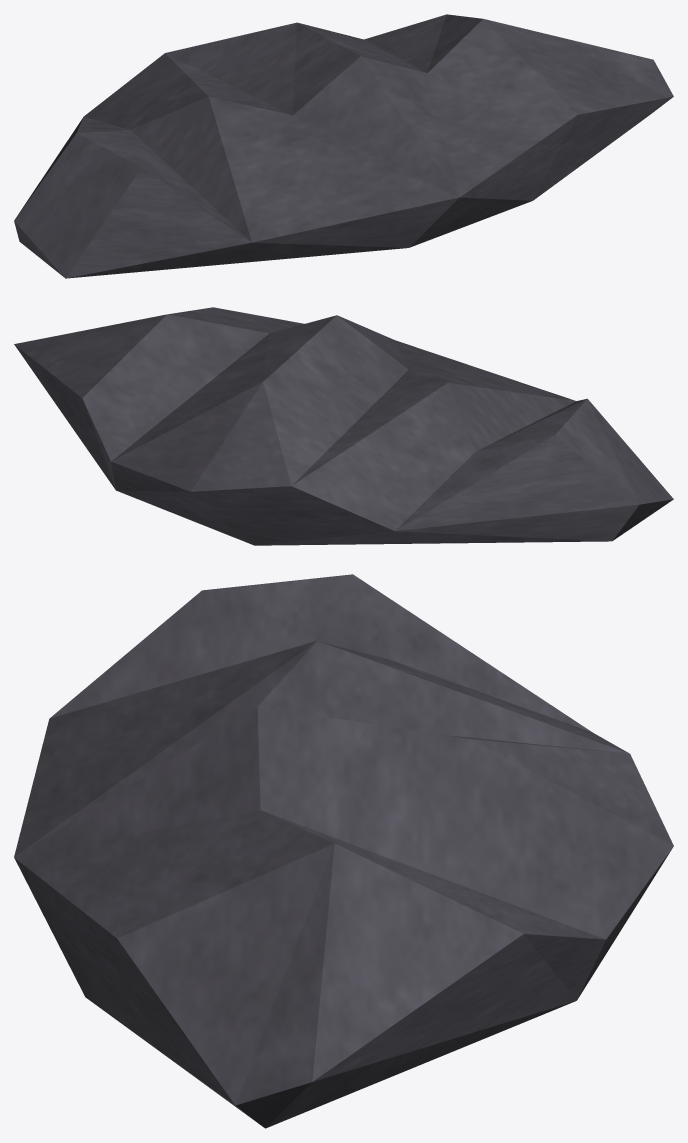
Rendered from volcanic_rope_lava.glb.
The picture shows the model from 3 angles, top to bottom: view 1: azimuth 30°, elevation 25°; view 2: azimuth 150°, elevation 25°; view 3: azimuth 270°, elevation 25°; orthographic projection. The views are drawn at different scales.
Parts seen in each view (by area): view 1: volcanic_rope_lava; view 2: volcanic_rope_lava; view 3: volcanic_rope_lava.
Boxes of the visible parts, <box> form: volcanic_rope_lava: <box>14,14,673,278</box>; volcanic_rope_lava: <box>14,307,673,545</box>; volcanic_rope_lava: <box>14,574,673,1128</box>.
Bounding box in the file's own units: 2.63 × 0.52 × 1.53.
Materials: 1 (1 with a texture image).
